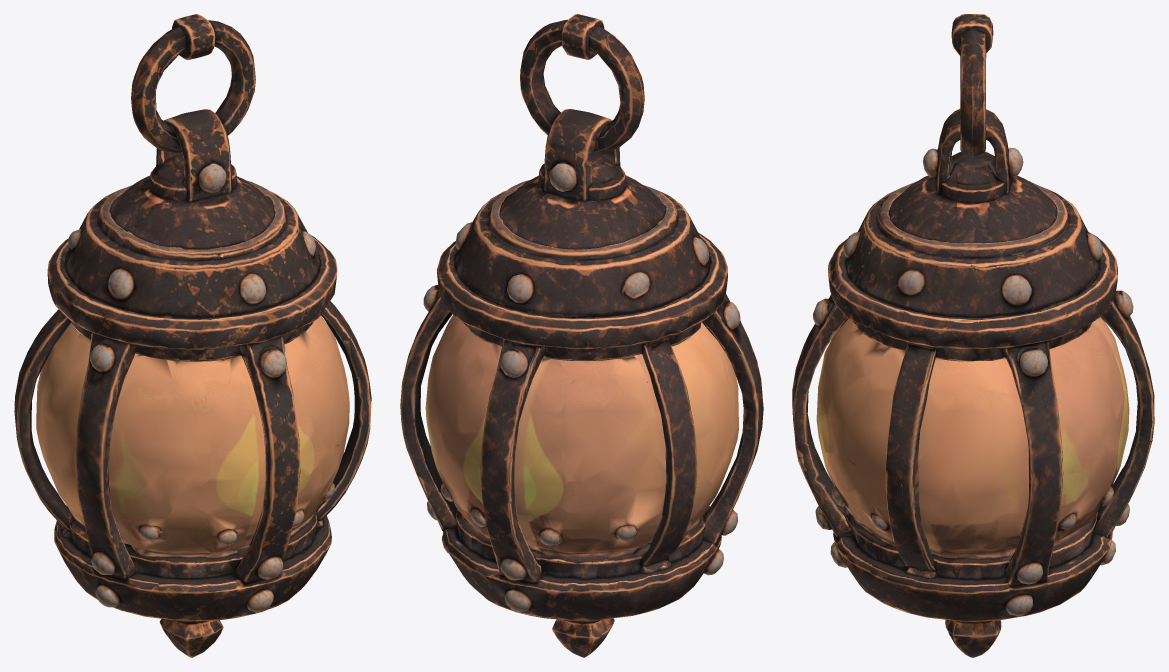
Rendered from lantern.glb.
The picture shows the model from 3 angles, left to right: view 1: azimuth 30°, elevation 25°; view 2: azimuth 150°, elevation 25°; view 3: azimuth 270°, elevation 25°; orthographic projection.
Bounding box in the file's own units: 0.9198 × 1.9 × 0.9768.
1 material, 1 textured.
